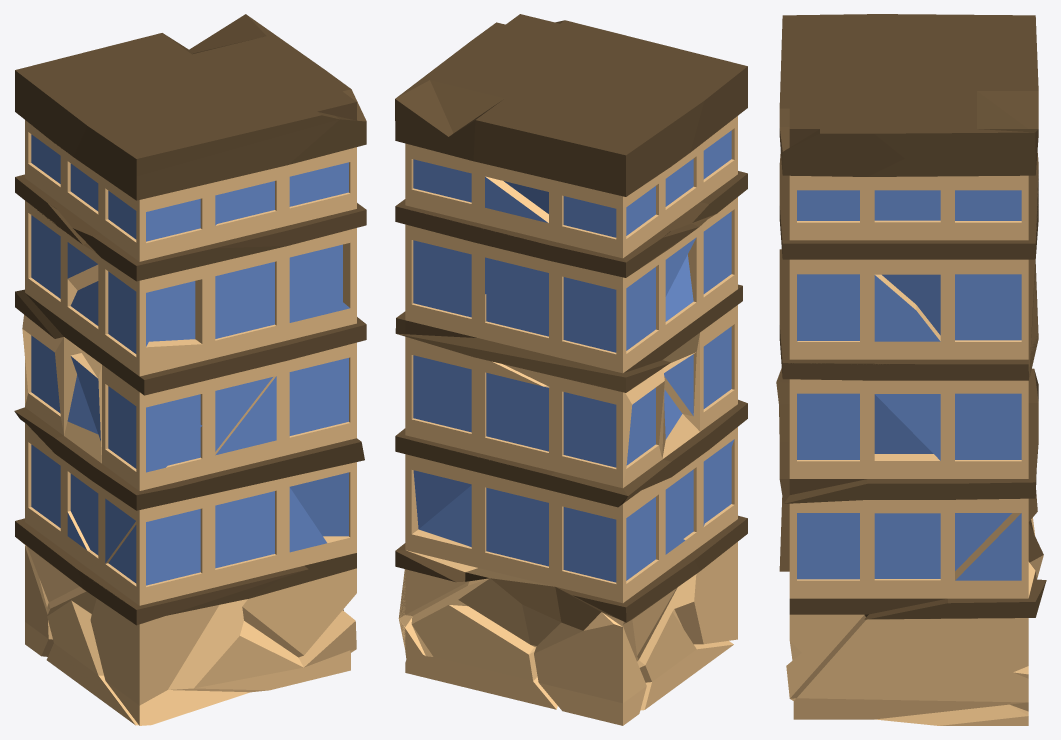
3 renders of one model, left to right at view 1: azimuth 30°, elevation 25°; view 2: azimuth 150°, elevation 25°; view 3: azimuth 270°, elevation 25°, orthographic. The views are drawn at different scales.
Parts seen in each view (by area): view 1: Cube; view 2: Cube; view 3: Cube.
Boxes of the visible parts, bbox=[...] form: Cube: bbox=[14, 14, 366, 725]; Cube: bbox=[395, 14, 747, 725]; Cube: bbox=[776, 14, 1046, 725].
Bounding box in the file's own units: 778 × 1798 × 738.
